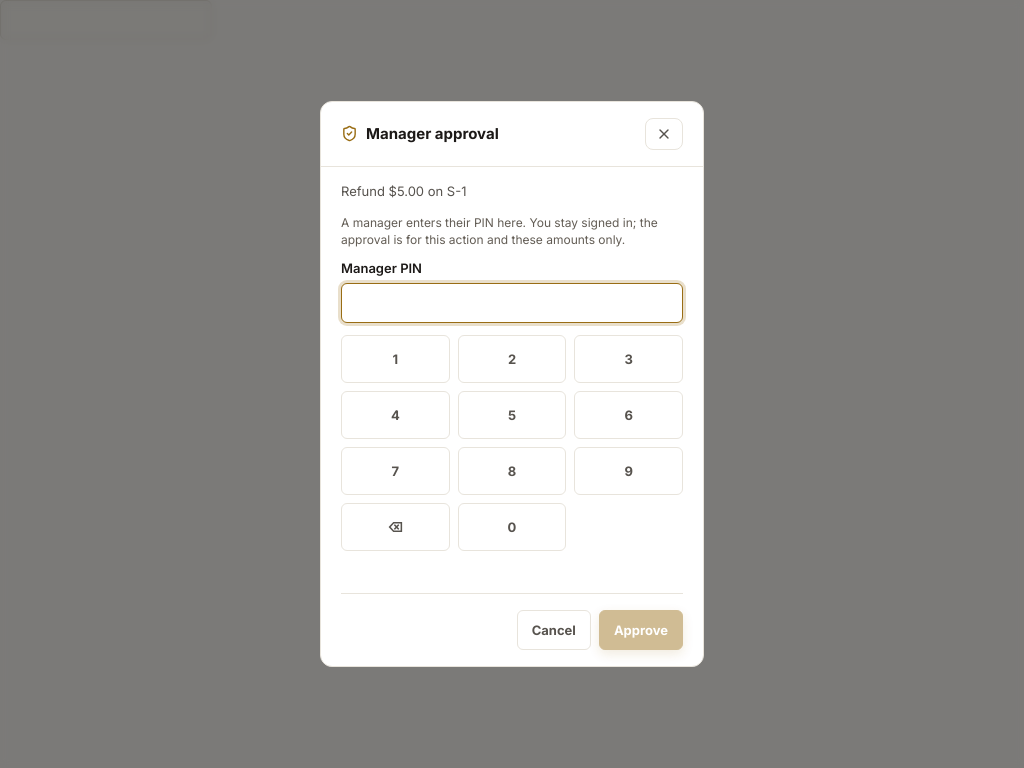
Test: manager approval dialog › the touch keypad types digits; a slow server is said so; a wrong PIN is shown and the PIN cleared
Later steps or results of the test are not shown.
Click the button "6" at {"x": 629, "y": 415}, box left=574, top=391, right=683, bottom=439
Click the button "6" at {"x": 629, "y": 415}, box left=574, top=391, right=683, bottom=439
Click the button "0" at {"x": 512, "y": 527}, box left=458, top=503, right=566, bottom=551
Click the button "1" at {"x": 395, "y": 359}, box left=341, top=335, right=450, bottom=383
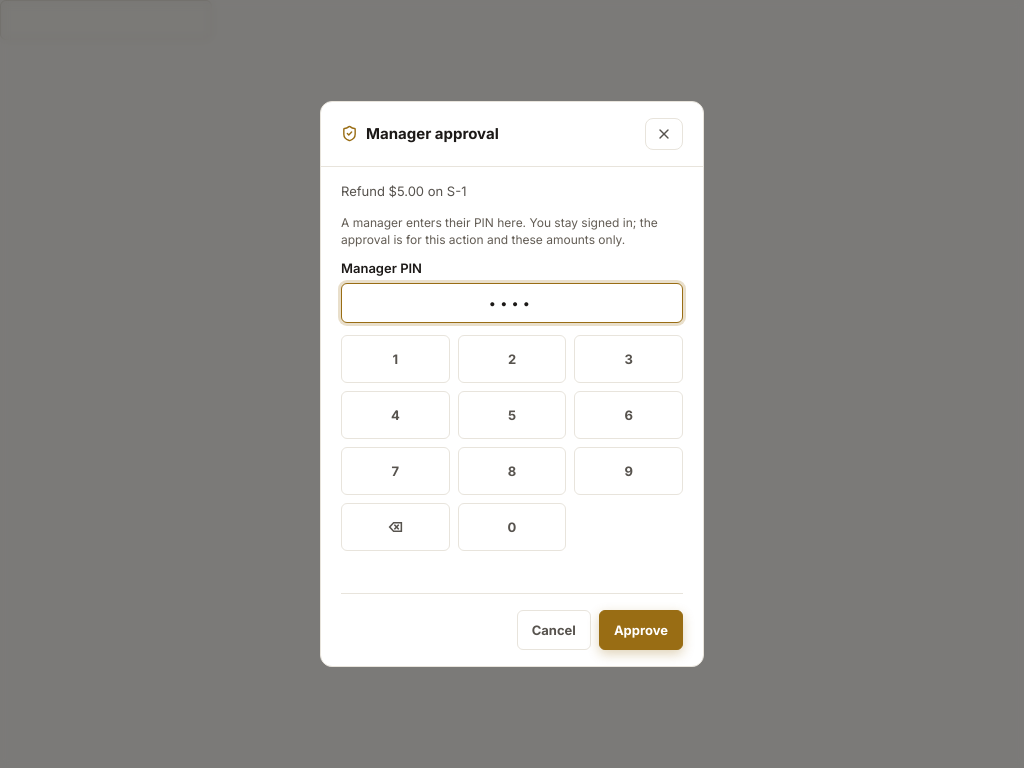
Expected: the password field labelled "Manager PIN" holds "6601", left=341, top=283, right=683, bottom=323
Submit the form, box left=321, top=167, right=703, bottom=666
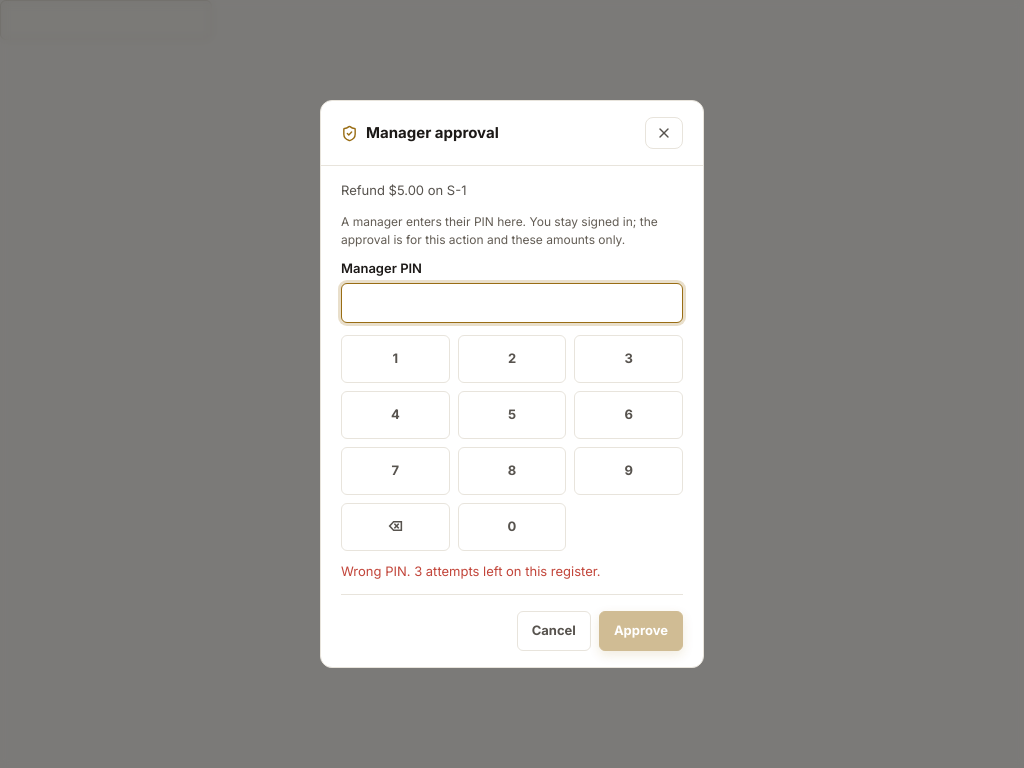
Expected: the dialog shows "Wrong PIN. 3 attempts left", left=341, top=564, right=601, bottom=580
Expected: the password field labelled "Manager PIN" is empty, left=341, top=283, right=683, bottom=323
